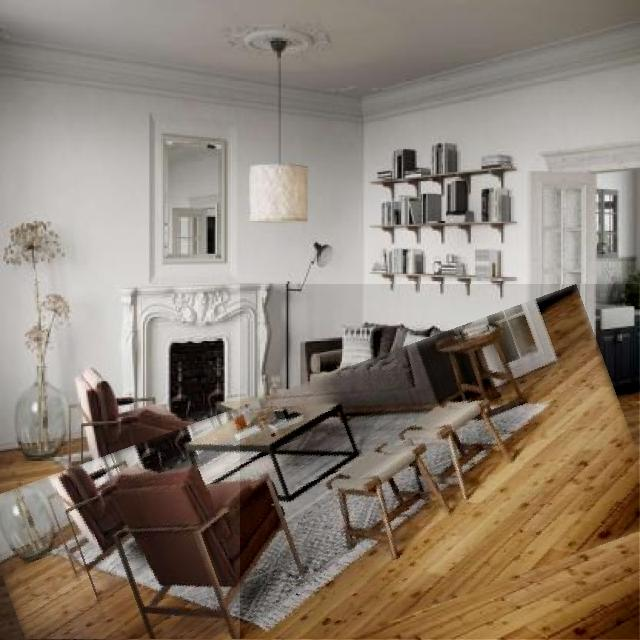floor: (241, 284, 639, 640), (0, 535, 149, 640)
